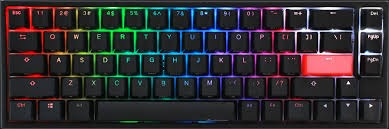keyboard: (0, 2, 389, 129)
